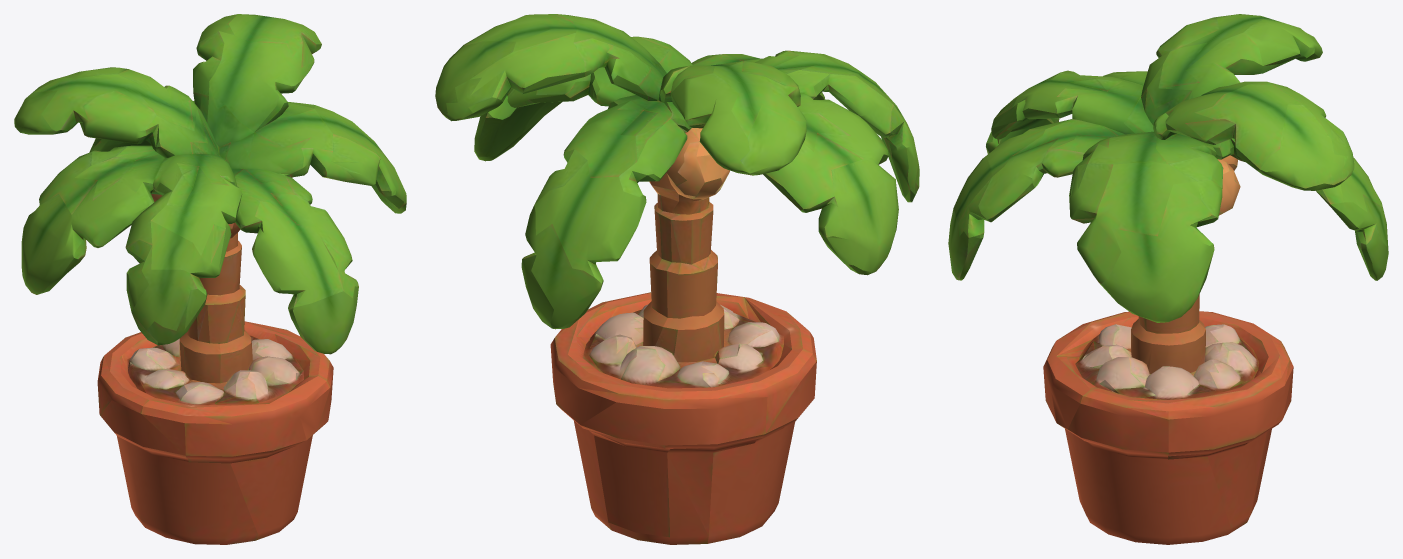
The model's file is decor_palm.fbx.
The picture shows the model from 3 angles, left to right: view 1: azimuth 30°, elevation 25°; view 2: azimuth 150°, elevation 25°; view 3: azimuth 270°, elevation 25°; orthographic projection. The views are drawn at different scales.
Parts seen in each view (by area): view 1: Mesh_0; view 2: Mesh_0; view 3: Mesh_0.
Part boxes in pixels (box(x1,y1,x2,y2)): Mesh_0: box(14, 14, 406, 544); Mesh_0: box(435, 14, 919, 544); Mesh_0: box(948, 14, 1388, 544).
Size of the model in its own units: 1.64 by 1.9 by 1.66.
1 material, 1 textured.
